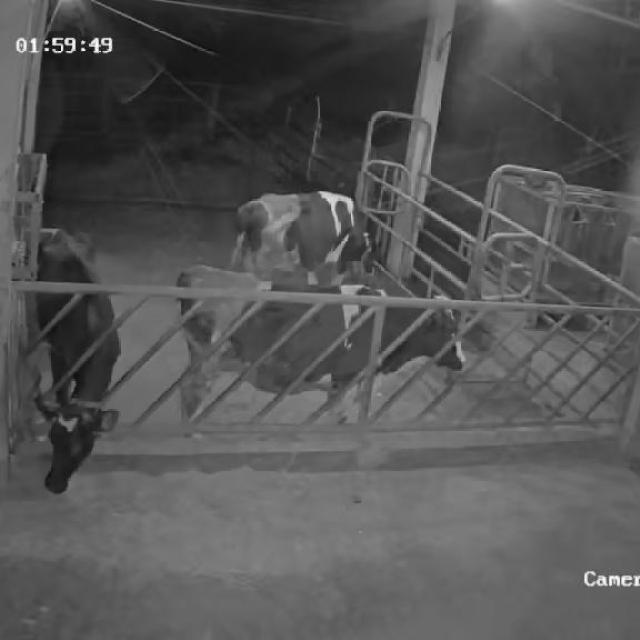feeding: (25, 226, 122, 504)
standing: (174, 258, 466, 424), (233, 186, 377, 286)
